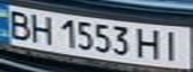1: (54, 16, 78, 48)
3: (112, 24, 136, 57)
5: (90, 21, 115, 55), (72, 19, 96, 52)
B: (3, 7, 33, 40)
H: (133, 26, 163, 61), (27, 11, 57, 45)
I: (157, 28, 187, 62)
